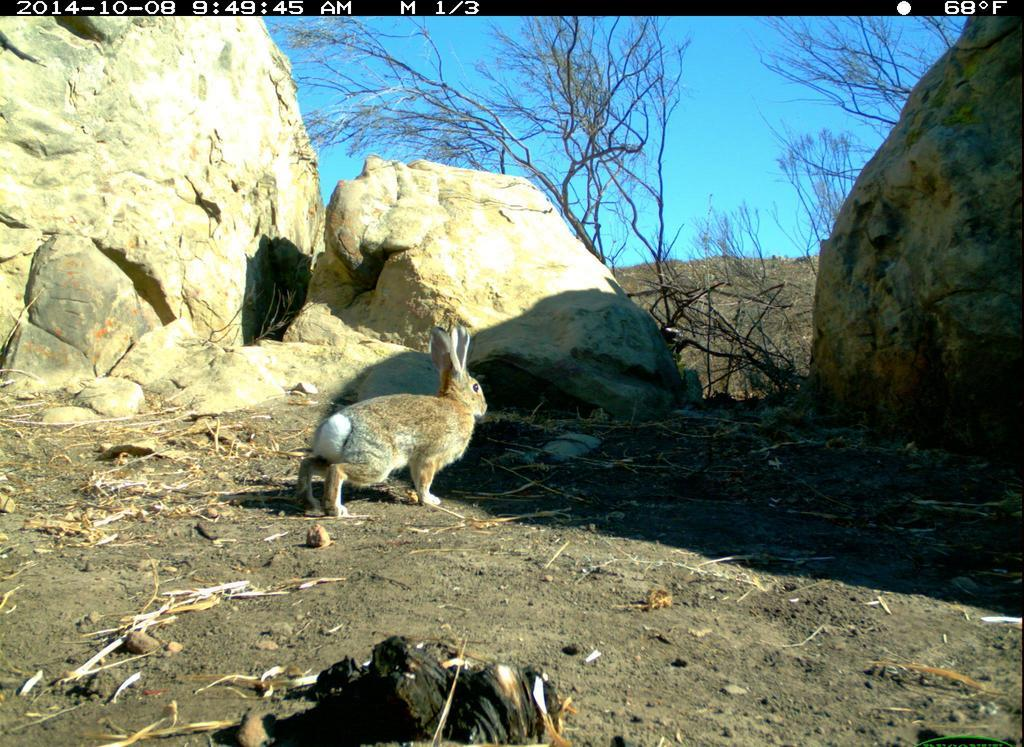rabbit: (294, 317, 505, 528)
